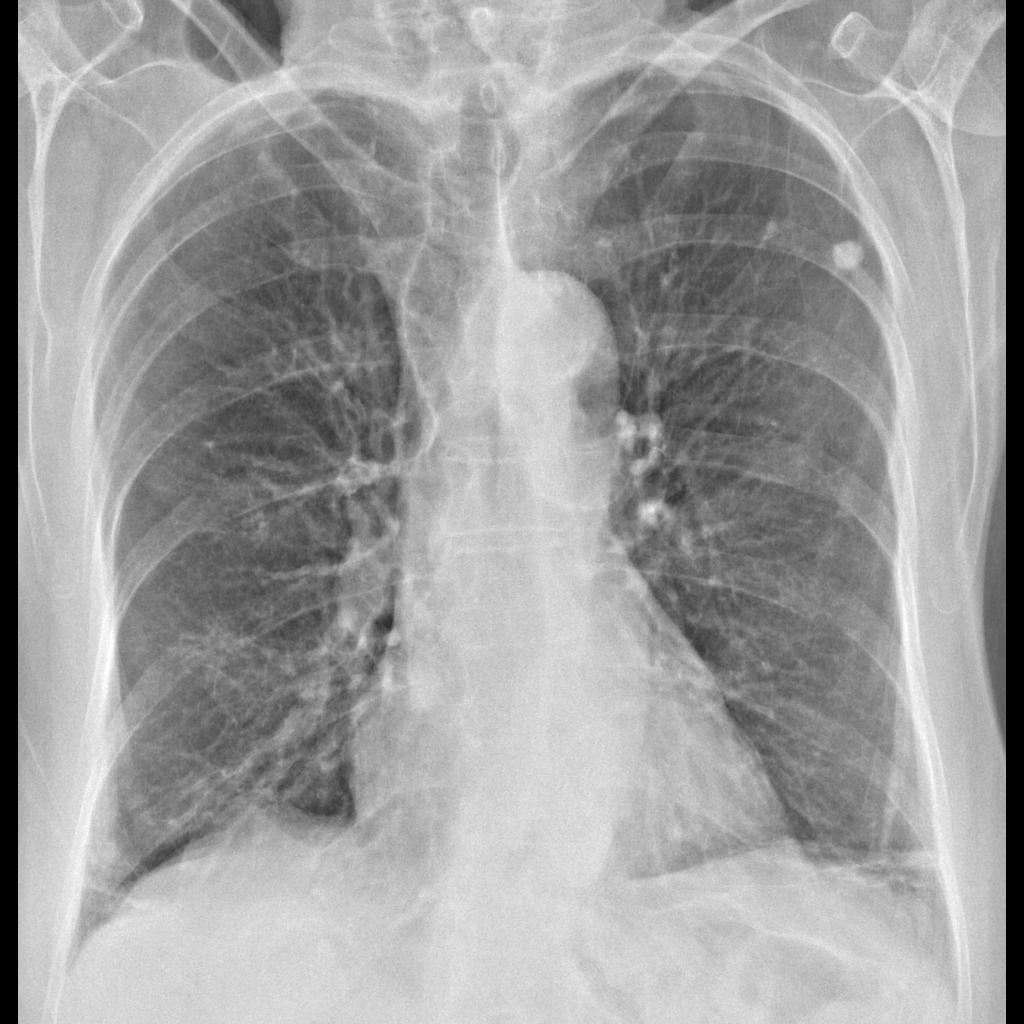Nodule: (825, 234, 874, 292)
